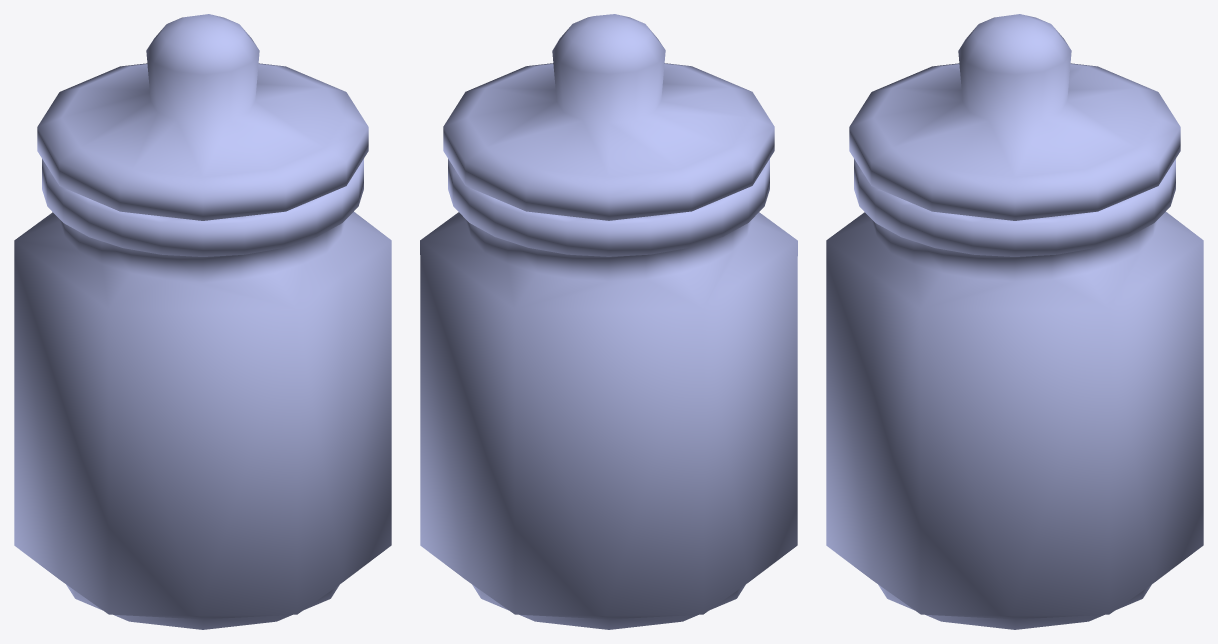
File: ear.fbx
The picture shows the model from 3 angles, left to right: view 1: azimuth 30°, elevation 25°; view 2: azimuth 150°, elevation 25°; view 3: azimuth 270°, elevation 25°; orthographic projection.
Visible parts, largest first — view 1: kitchen.preserving.jar.angled; view 2: kitchen.preserving.jar.angled; view 3: kitchen.preserving.jar.angled.
Boxes of the visible parts, x1,y1,x2,y2 form: kitchen.preserving.jar.angled: [14, 14, 391, 629]; kitchen.preserving.jar.angled: [420, 14, 797, 629]; kitchen.preserving.jar.angled: [826, 14, 1203, 629].
Bounding box in the file's own units: 342 × 622 × 390.
